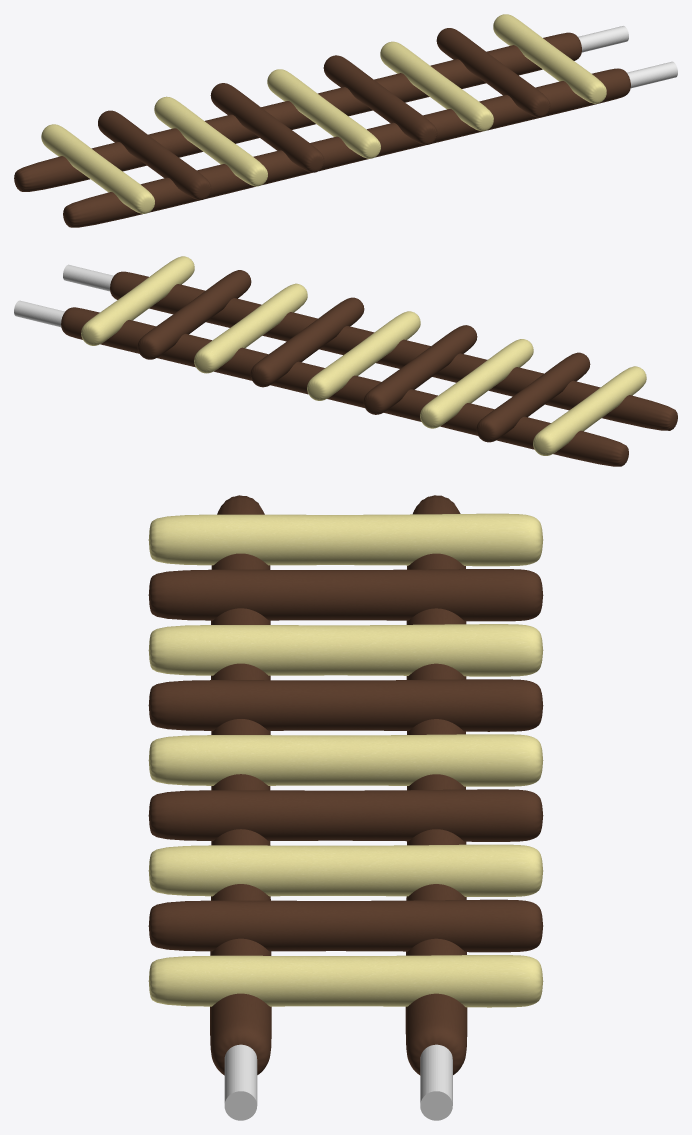
The model's file is rebrik2.fbx.
3 renders of one model, top to bottom at view 1: azimuth 30°, elevation 25°; view 2: azimuth 150°, elevation 25°; view 3: azimuth 270°, elevation 25°, orthographic. The views are drawn at different scales.
Visible parts, largest first — view 1: Cylinder.017, Cylinder.013, Cylinder.022, Cylinder.009, Cylinder.010, Cylinder.014, Cylinder.018, Cylinder.019, Cylinder.021, Cylinder.012, Cylinder.011, Cylinder.016 (+1 smaller); view 2: Cylinder.013, Cylinder.017, Cylinder.022, Cylinder.009, Cylinder.010, Cylinder.014, Cylinder.019, Cylinder.021, Cylinder.018, Cylinder.011, Cylinder.012, Cylinder.016 (+1 smaller); view 3: Cylinder.022, Cylinder.009, Cylinder.021, Cylinder.010, Cylinder.014, Cylinder.019, Cylinder.012, Cylinder.018, Cylinder.011, Cylinder.017, Cylinder.013, Cylinder.016 (+1 smaller).
Boxes of the visible parts, bbox=[...] form: Cylinder.017: bbox=[63, 68, 630, 227]; Cylinder.013: bbox=[14, 32, 581, 191]; Cylinder.022: bbox=[41, 124, 154, 213]; Cylinder.009: bbox=[267, 69, 380, 158]; Cylinder.010: bbox=[323, 55, 437, 145]; Cylinder.014: bbox=[380, 41, 493, 131]; Cylinder.018: bbox=[154, 96, 267, 186]; Cylinder.019: bbox=[210, 83, 324, 172]; Cylinder.021: bbox=[98, 110, 211, 200]; Cylinder.012: bbox=[436, 28, 550, 117]; Cylinder.011: bbox=[493, 14, 606, 103]; Cylinder.016: bbox=[627, 61, 677, 88]; Cylinder.013: bbox=[61, 307, 628, 466]; Cylinder.017: bbox=[110, 271, 677, 430]; Cylinder.022: bbox=[533, 366, 646, 455]; Cylinder.009: bbox=[307, 311, 420, 400]; Cylinder.010: bbox=[250, 297, 364, 387]; Cylinder.014: bbox=[194, 283, 307, 373]; Cylinder.019: bbox=[363, 325, 477, 414]; Cylinder.021: bbox=[476, 352, 590, 442]; Cylinder.018: bbox=[420, 339, 533, 428]; Cylinder.011: bbox=[81, 256, 194, 345]; Cylinder.012: bbox=[137, 270, 251, 359]; Cylinder.016: bbox=[63, 264, 113, 291]; Cylinder.022: bbox=[148, 513, 543, 566]; Cylinder.009: bbox=[148, 734, 543, 786]; Cylinder.021: bbox=[148, 569, 543, 621]; Cylinder.010: bbox=[148, 789, 543, 841]; Cylinder.014: bbox=[148, 844, 543, 896]; Cylinder.019: bbox=[148, 679, 543, 731]; Cylinder.012: bbox=[148, 899, 543, 952]; Cylinder.018: bbox=[148, 624, 543, 676]; Cylinder.011: bbox=[148, 955, 543, 1007]; Cylinder.017: bbox=[210, 495, 271, 1075]; Cylinder.013: bbox=[405, 495, 467, 1075]; Cylinder.016: bbox=[224, 1044, 257, 1120].
Size of the model in its own units: 431 by 27.61 by 121.
Materials: 10 (8 with a texture image).
